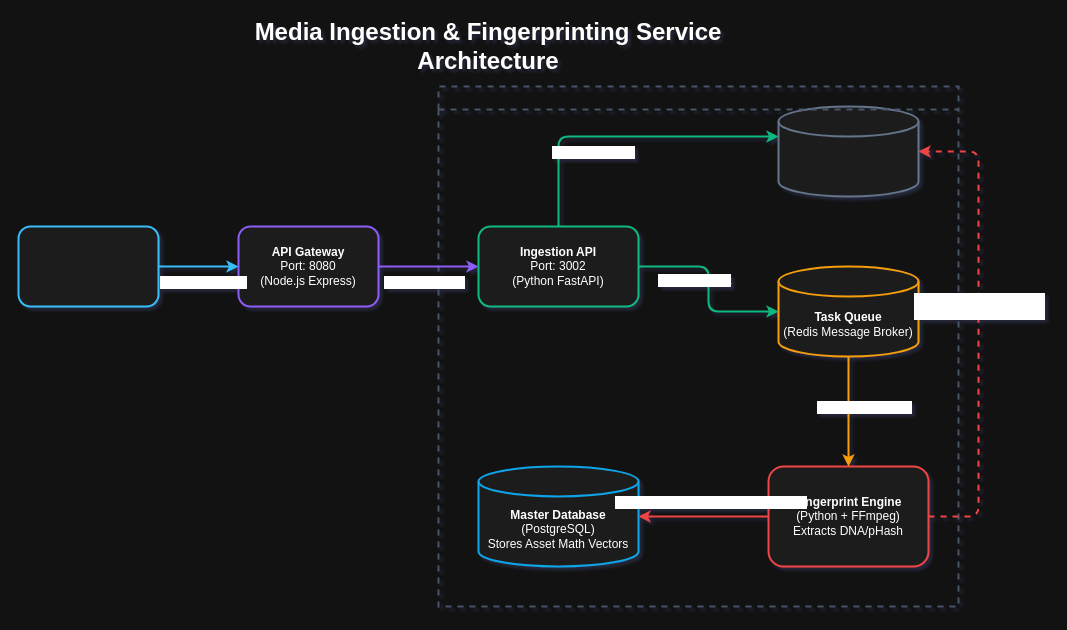
Image size: 1067x630. Some labels were removed from this diagram. The shapes that lost their labels are listed below. From the top down, each one's box as (x1, y1, x2, y2) in pixels, then its label:
(777, 105, 919, 197): Raw Media Vault (AWS S3 / Local Disk)
(17, 225, 159, 307): Dashboard UI (React Component)
(437, 85, 959, 607): Deep Analysis Core
